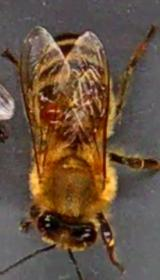varroa_mite: (38, 98, 69, 126)
